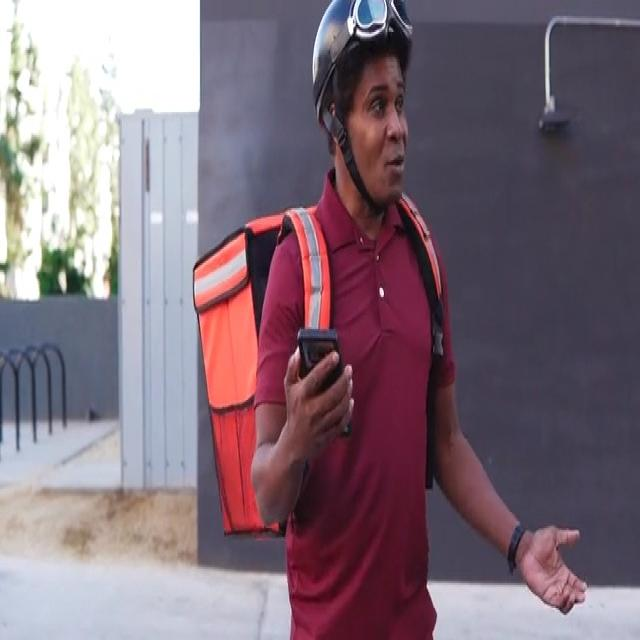Helmet_Wearer: (312, 4, 414, 202)
Person: (259, 0, 582, 640)
